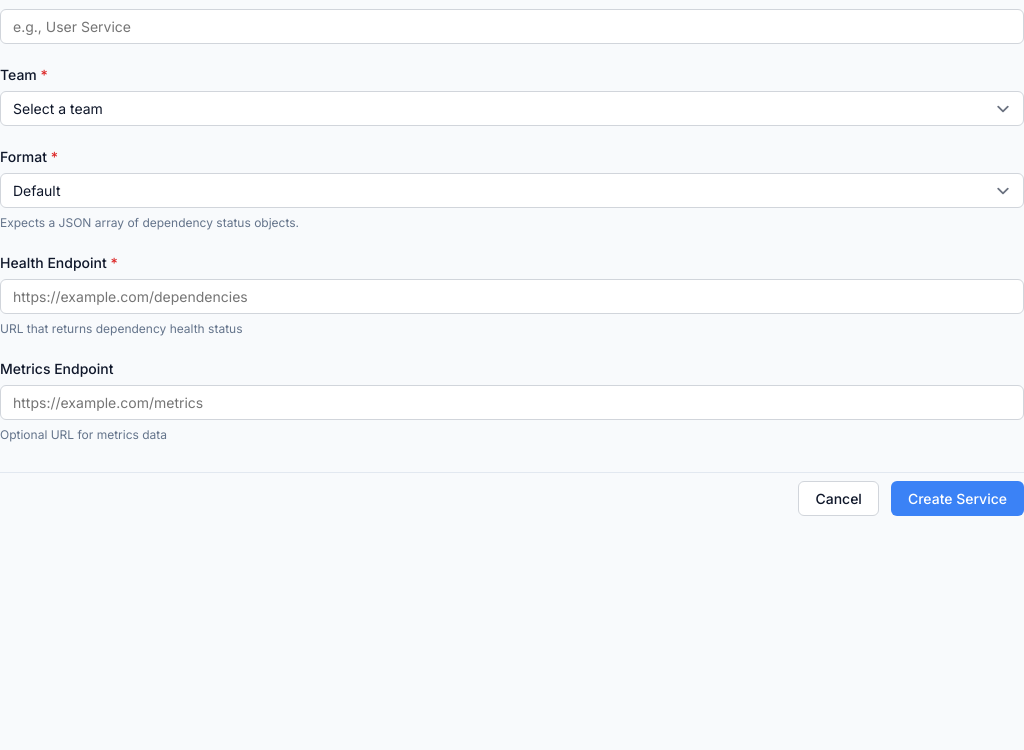
Test: ServiceForm › schema config integration › shows Test mapping button when in custom schema mode
Select "Custom Schema" in the dropdown labelled "Format *" at (512, 190), box [0,173,1023,208]
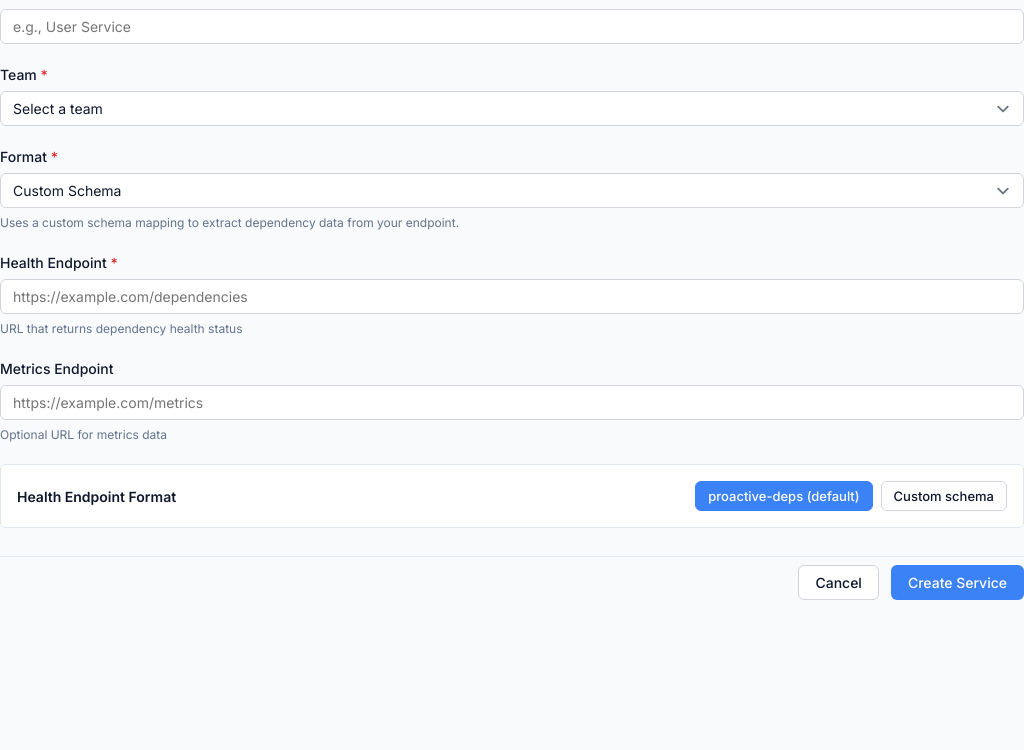
Click the button "Custom schema" at (944, 496), box [881,481,1007,511]
(page scrolled)
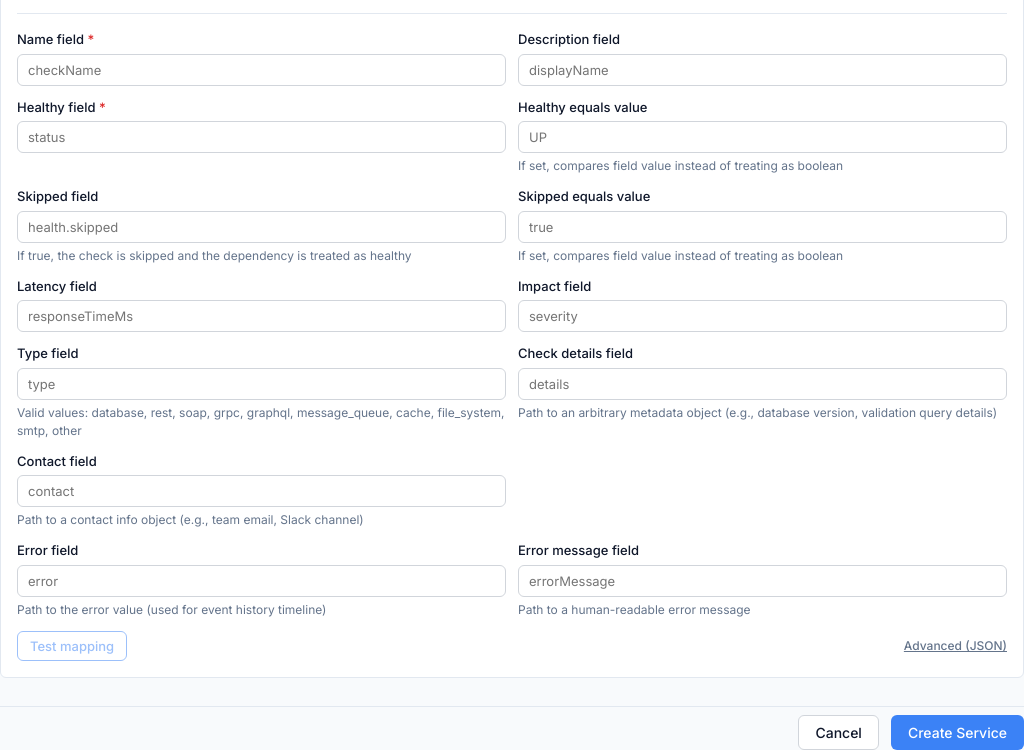
expect the button "Test mapping" is shown: met, box [17,630,127,660]
